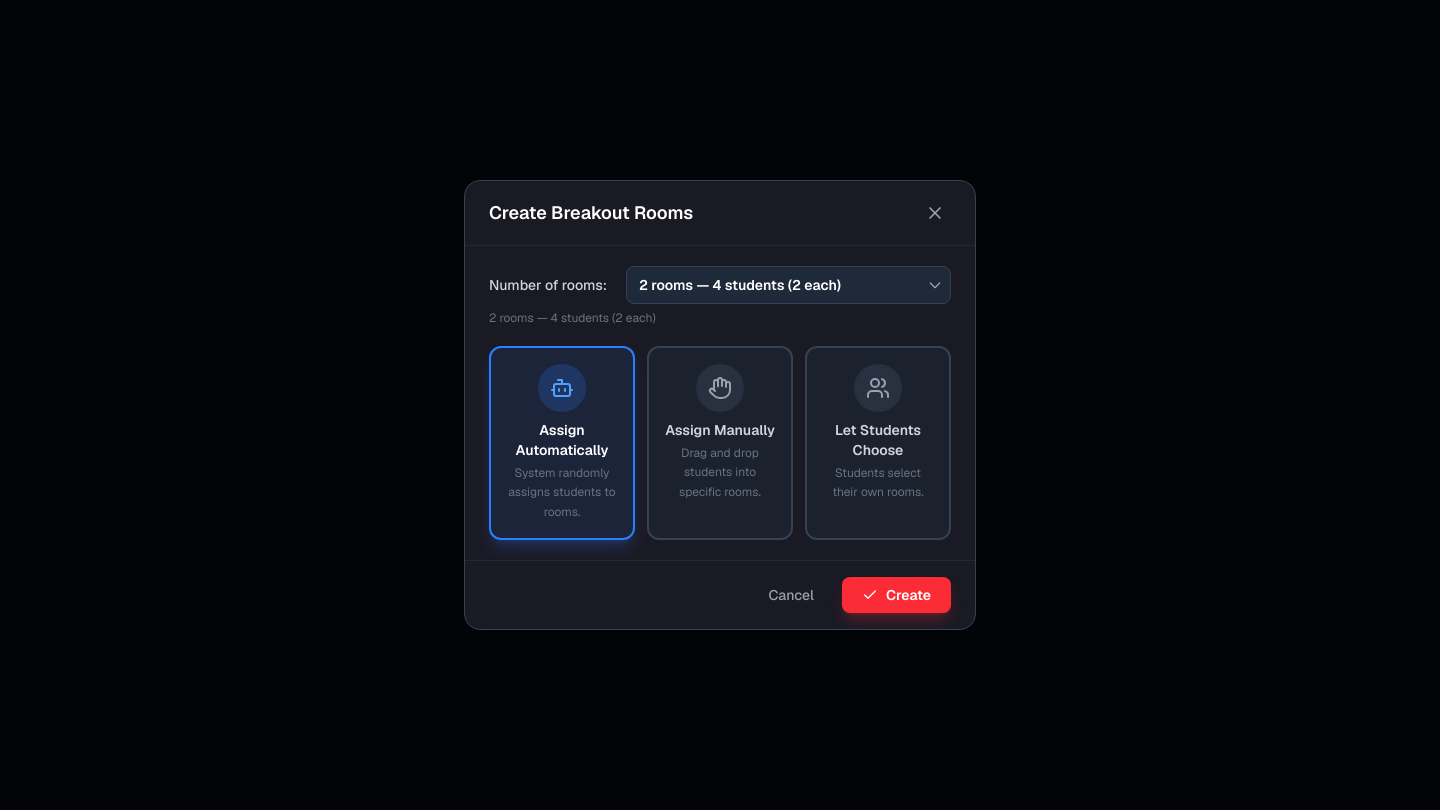
it: CreateBreakoutModal › in manual mode, shows student pool and room columns before creating
The image size is (1440, 810).
Click the button with test id "mode-manual". click: x=720, y=443
box: [647,346,793,540]
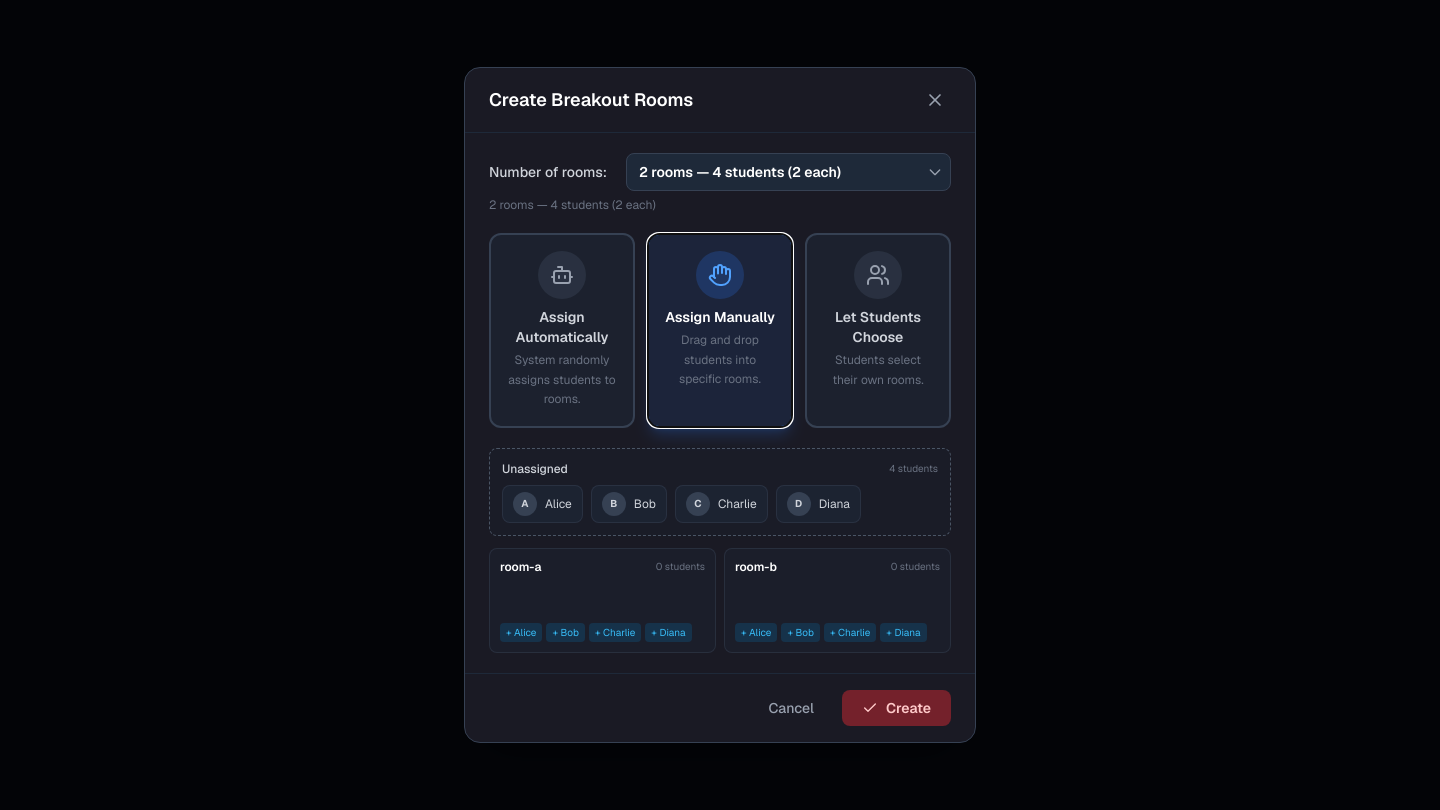
Expected: the element with test id "manual-unassigned-pool" is shown, [489,448,951,536]
Expected: the number of elements with test id "manual-room-column" is 2, [489,548,716,653]; [724,548,951,653]
